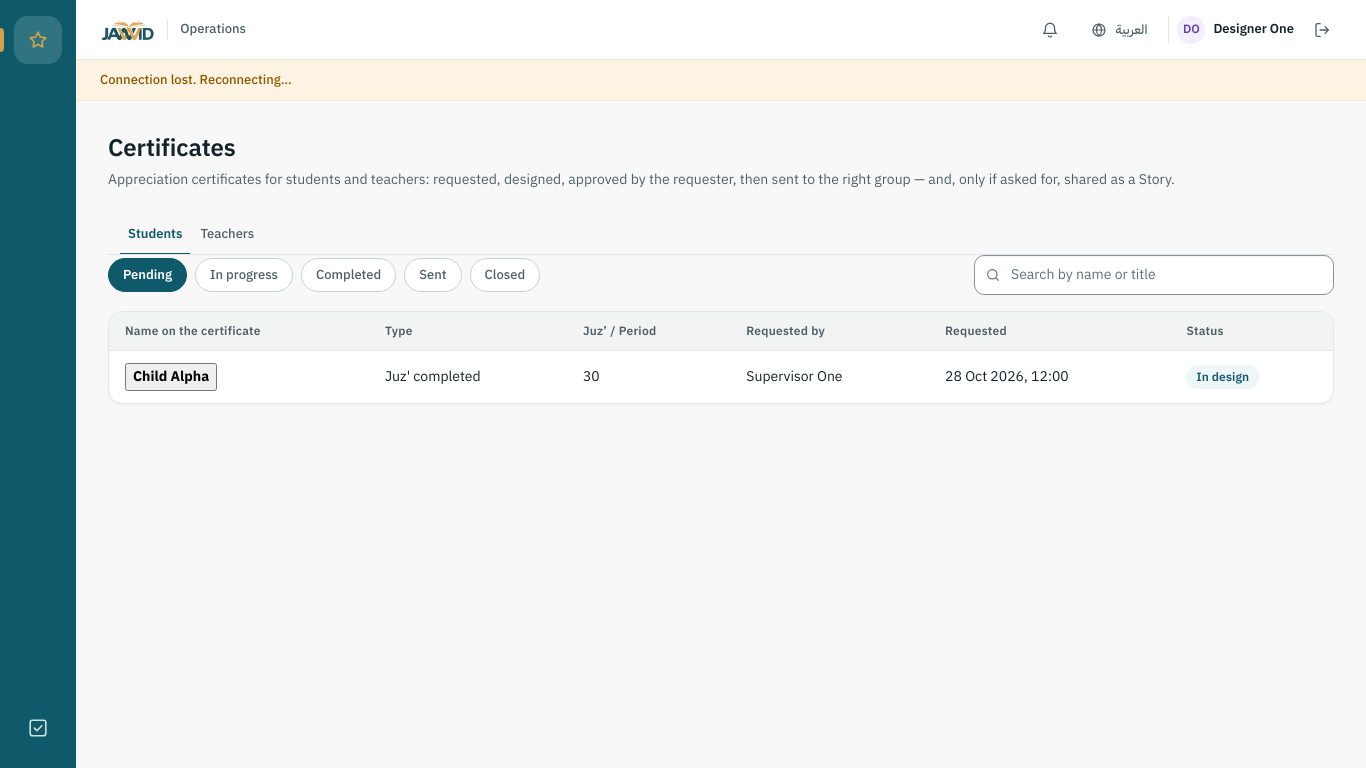
Test: the Designer › lands on Certificates, requests nothing, and sees no family detail
This screenshot has width=1366, height=768.
Step 1. Click the button "Child Alpha" → (171, 377), box [125,363,217,391]
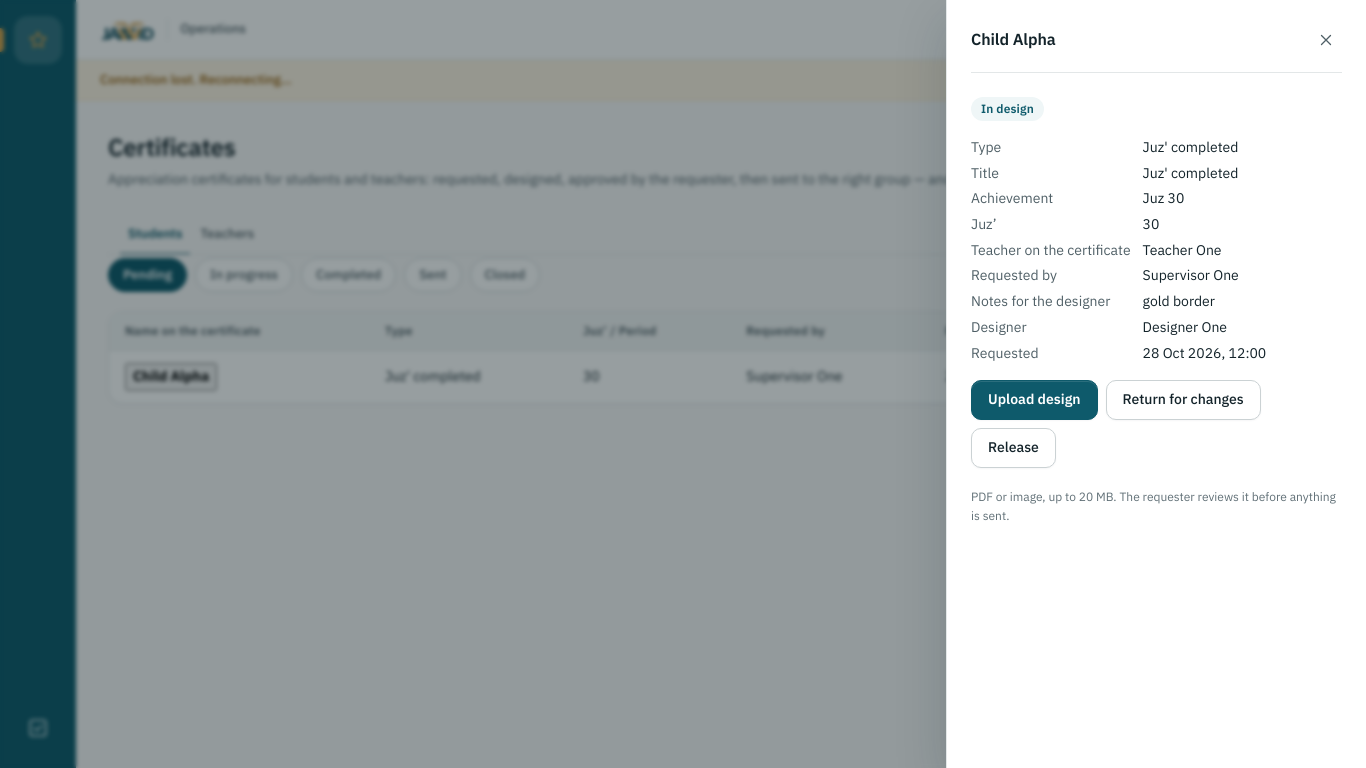
Now the text "gold border" is shown, box [1143,291,1215,312]
